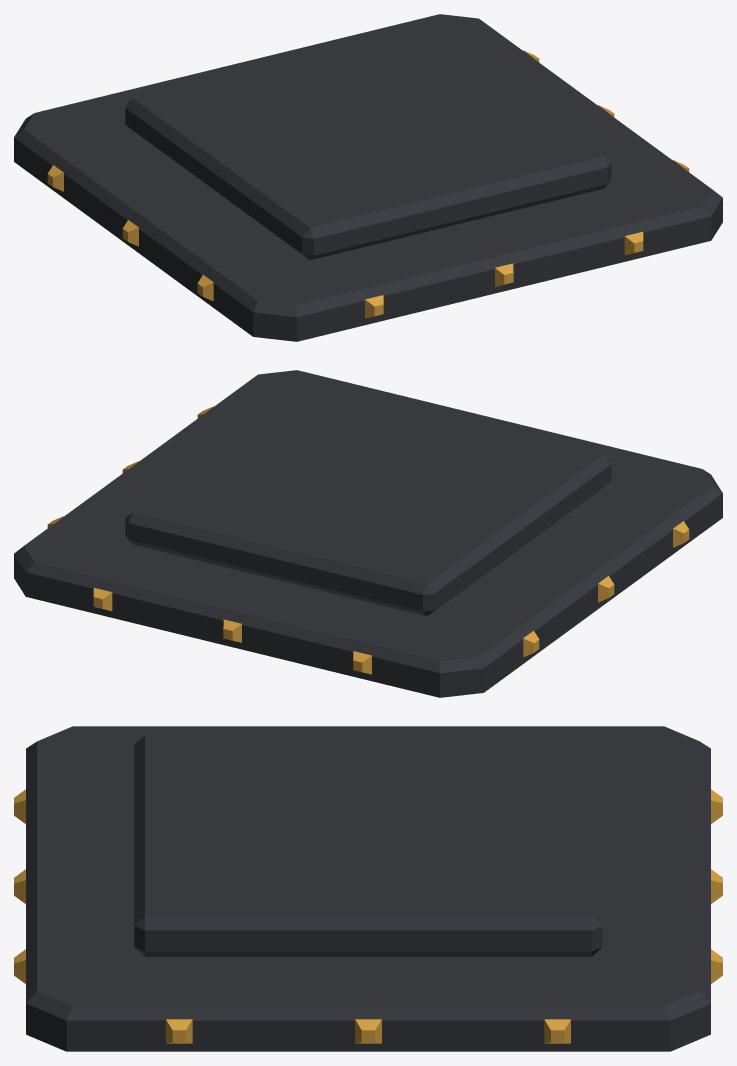
File: MortarBody.obj
3 views of the same model, one above another, from view 1: azimuth 30°, elevation 25°; view 2: azimuth 150°, elevation 25°; view 3: azimuth 270°, elevation 25° (orthographic). The views are drawn at different scales.
Visible parts, largest first — view 1: MortarBody; view 2: MortarBody; view 3: MortarBody.
Part boxes in pixels (left/top/right/bottom): MortarBody: left=14, top=14, right=722, bottom=341; MortarBody: left=14, top=370, right=722, bottom=697; MortarBody: left=14, top=726, right=722, bottom=1051.
Size of the model in its own units: 0.9444 by 0.12 by 0.9444.
